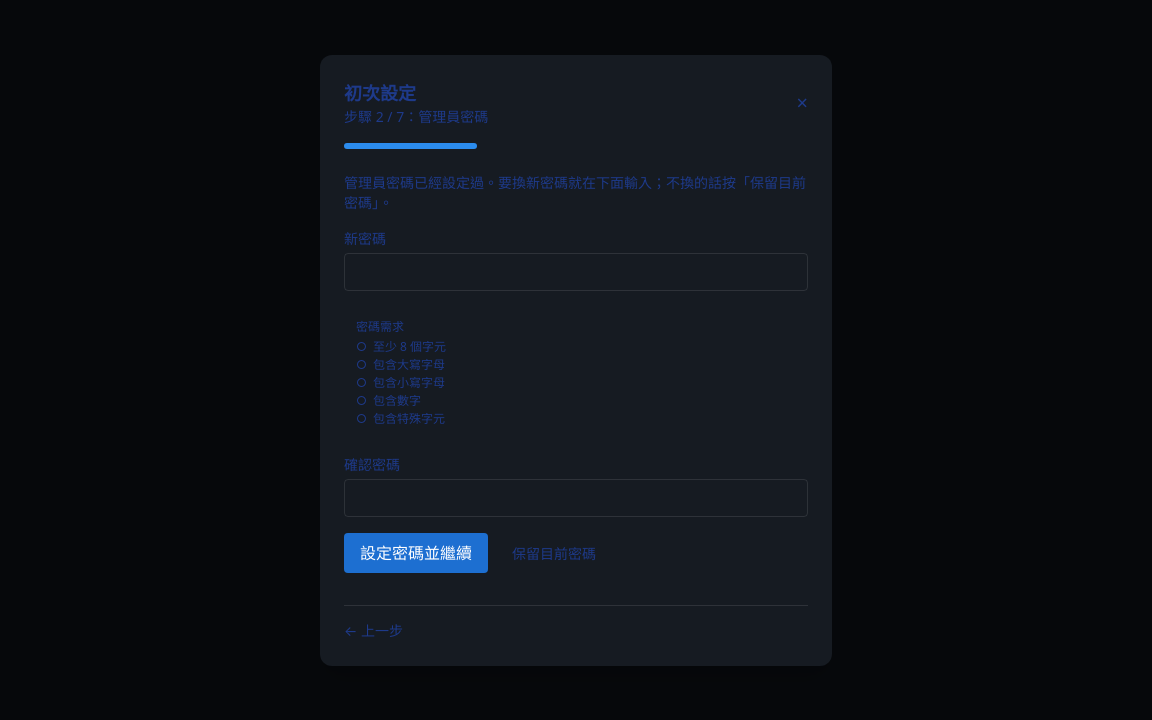
Test case: SetupWizard › starts at the given step when initialStepId is set (sidebar「變更密碼」)
The width and height of the screenshot is (1152, 720).
Expected: the text "步驟 2 / 7：管理員密碼" is shown, [344,106,488,126]
Click the button "← 上一步". click: (374, 630)
box: [344,620,403,640]
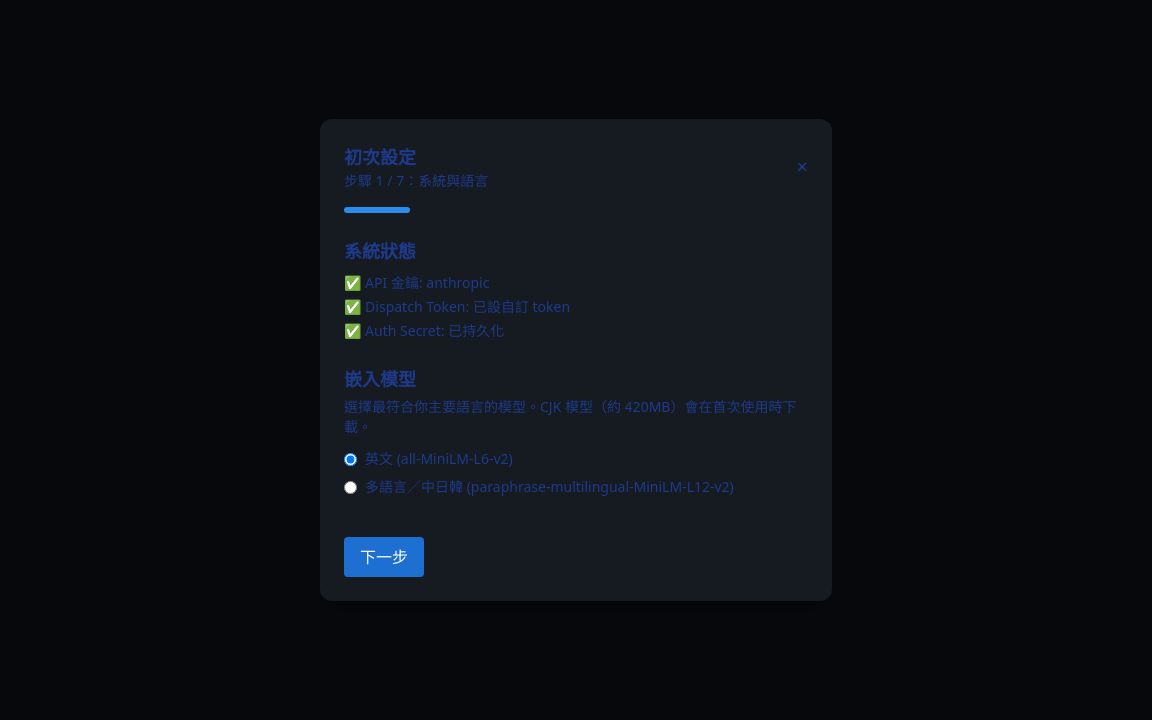
Expected: the text "步驟 1 / 7：系統與語言" is shown, [344,171,488,191]
